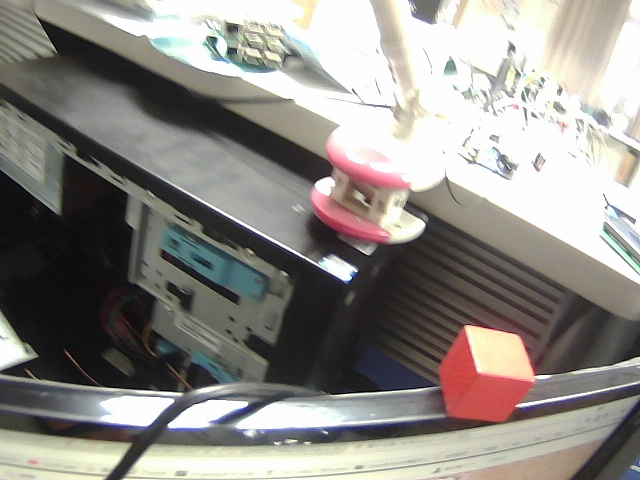redbox: (427, 319, 551, 435)
